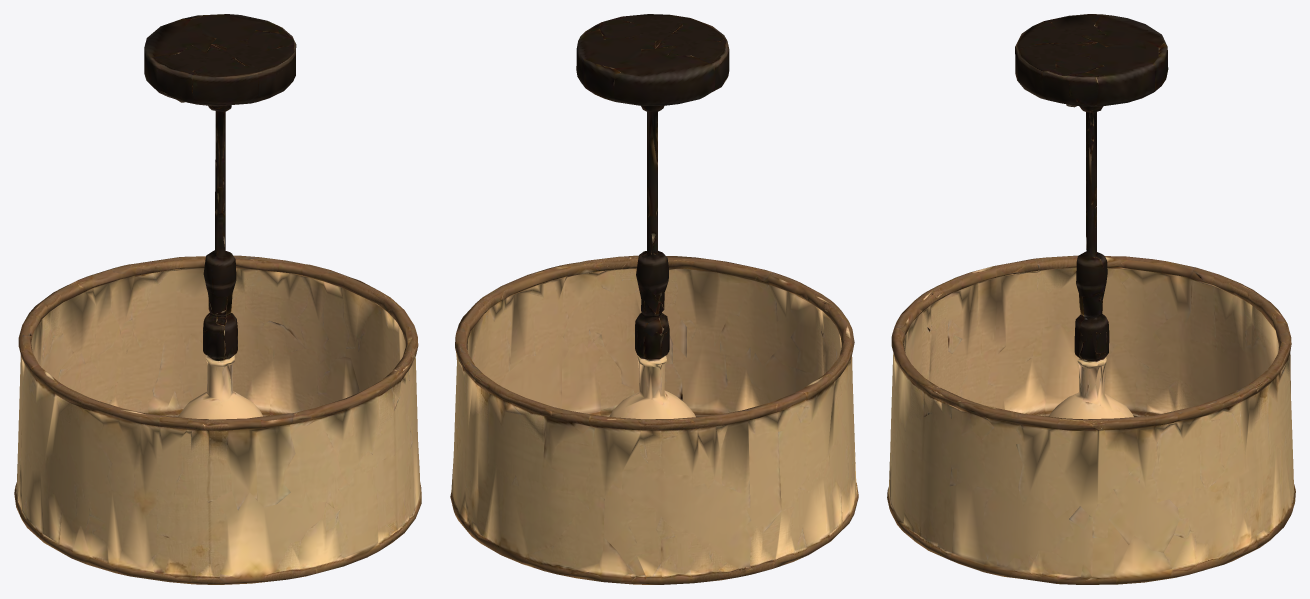
File: d_lamp_drum.glb
3 views of the same model, side by side, from view 1: azimuth 30°, elevation 25°; view 2: azimuth 150°, elevation 25°; view 3: azimuth 270°, elevation 25° (orthographic).
Size of the model in its own units: 1.54 by 1.9 by 1.55.
1 material, 1 textured.
